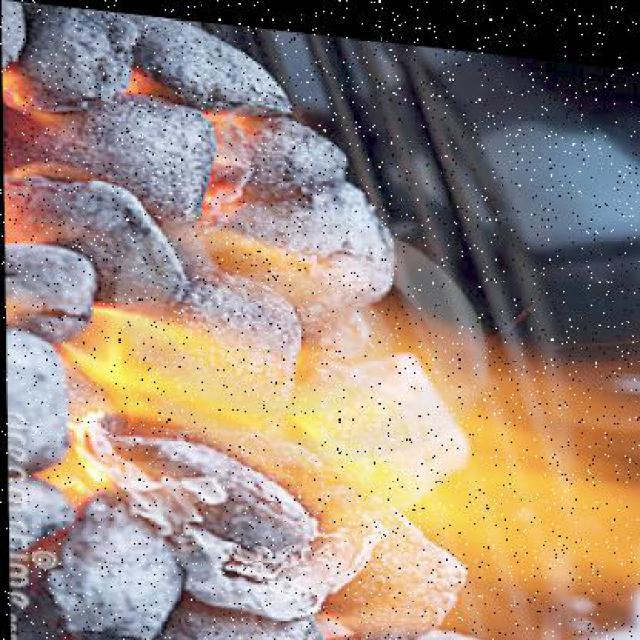fire: (61, 241, 639, 616)
